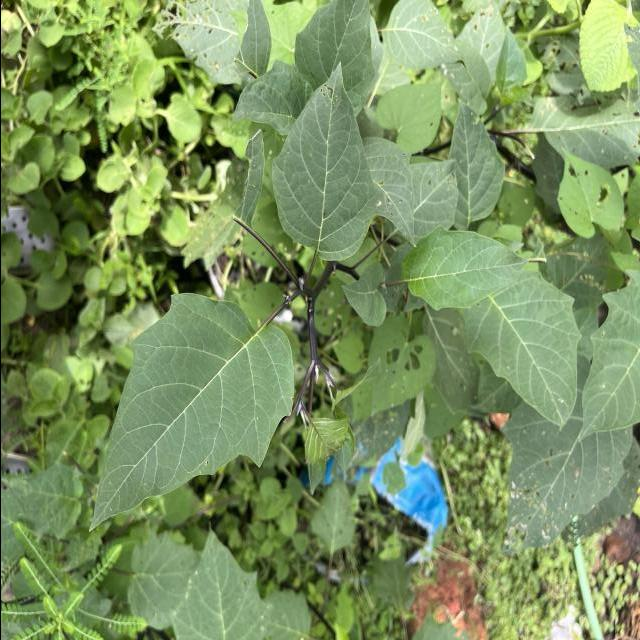Datura metal linn: (86, 288, 297, 535), (269, 58, 381, 264), (398, 221, 532, 314)
